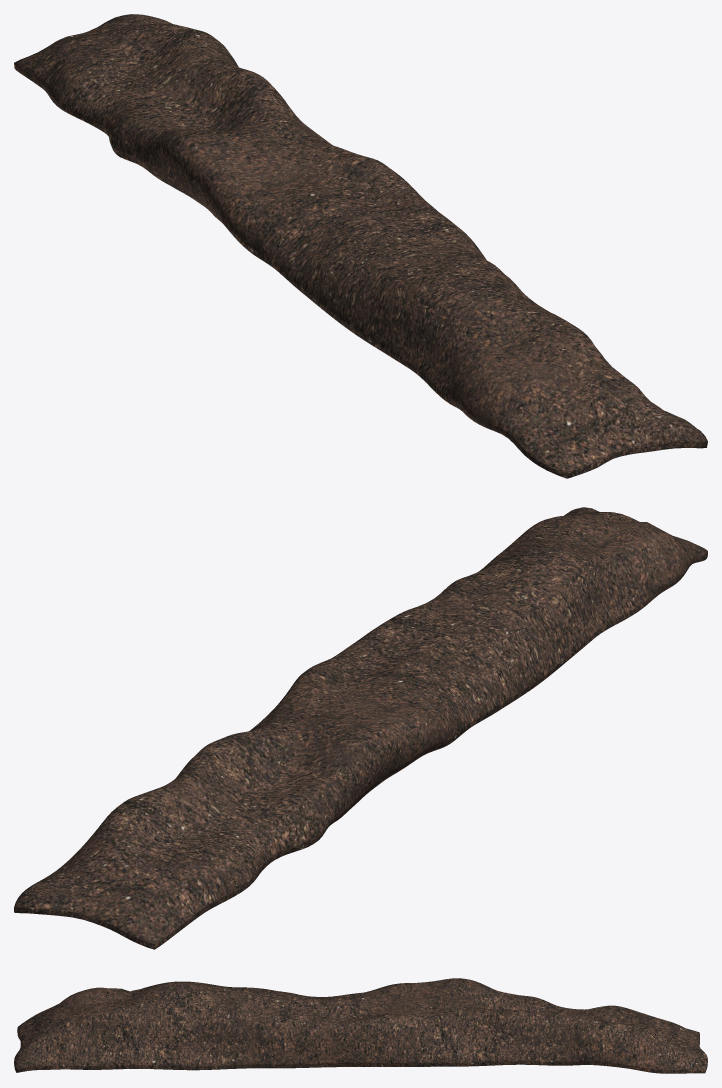
The model's file is soil.fbx.
3 renders of one model, top to bottom at view 1: azimuth 30°, elevation 25°; view 2: azimuth 150°, elevation 25°; view 3: azimuth 270°, elevation 25°, orthographic. The views are drawn at different scales.
Visible parts, largest first — view 1: Cube; view 2: Cube; view 3: Cube.
Boxes of the visible parts, x1,y1,x2,y2 form: Cube: [14, 14, 707, 478]; Cube: [14, 507, 707, 949]; Cube: [14, 978, 707, 1073].
Size of the model in its own units: 50.99 by 23.01 by 261.
1 material, 1 textured.
